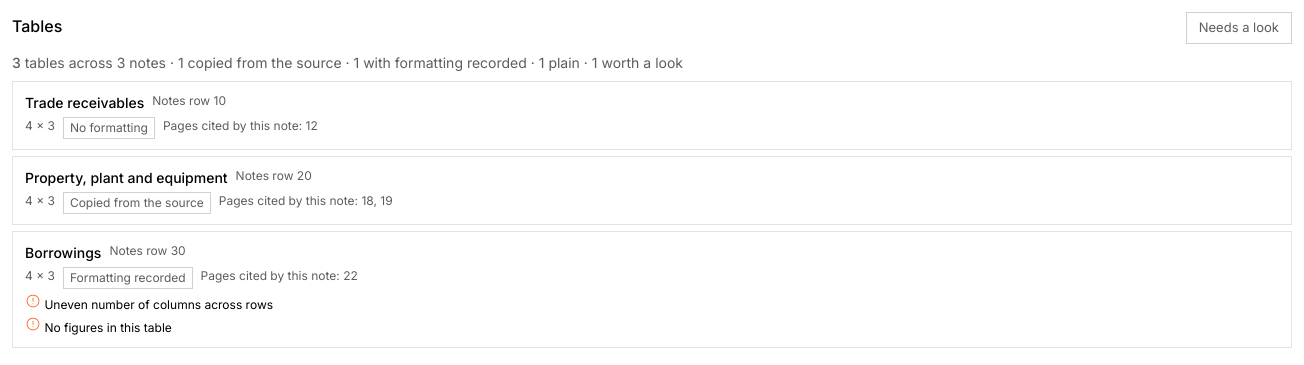
NotesTablesPanel › filtering to needs-attention keeps plain and flagged tables only
The image size is (1304, 365).
expect the text "Trade receivables" is shown: met, box [25,92,144,112]
Click the button with test id "notes-tables-filter-attention".
click(1239, 28)  # box [1186,12,1292,44]
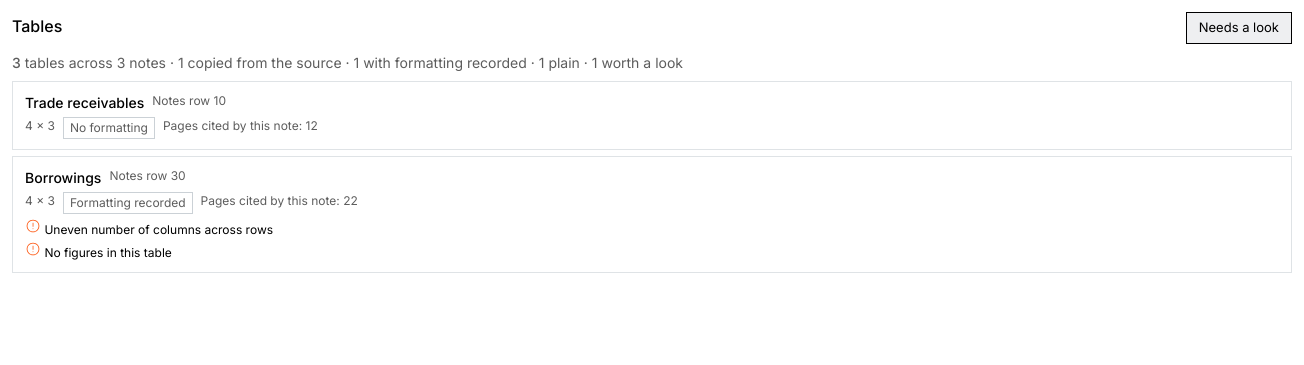
expect the text "Trade receivables" is shown: met, box [25,92,144,112]
expect the button "Property, plant and equipment" is gone: met
